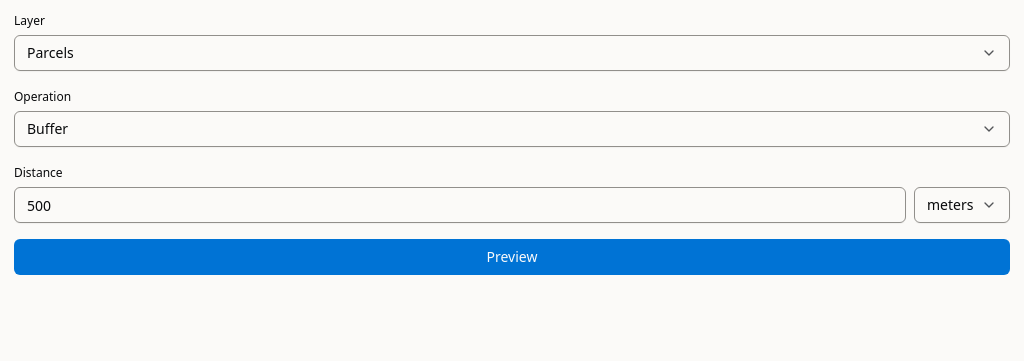
Test case: AnalysisPanel › does not offer Dissolve to viewers (fix #779)
The width and height of the screenshot is (1024, 361).
Click the dropdown labelled "Buffer" at [48, 128], box [14,111,1010,147]
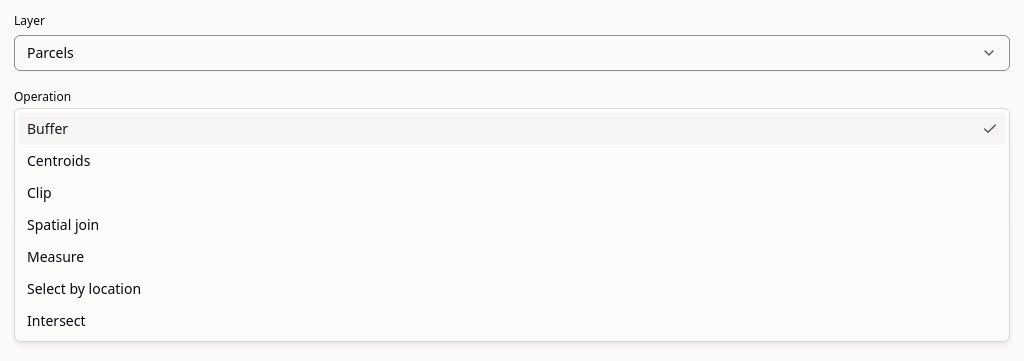
Expected: the option "Clip" is shown, [27,183,52,202]
